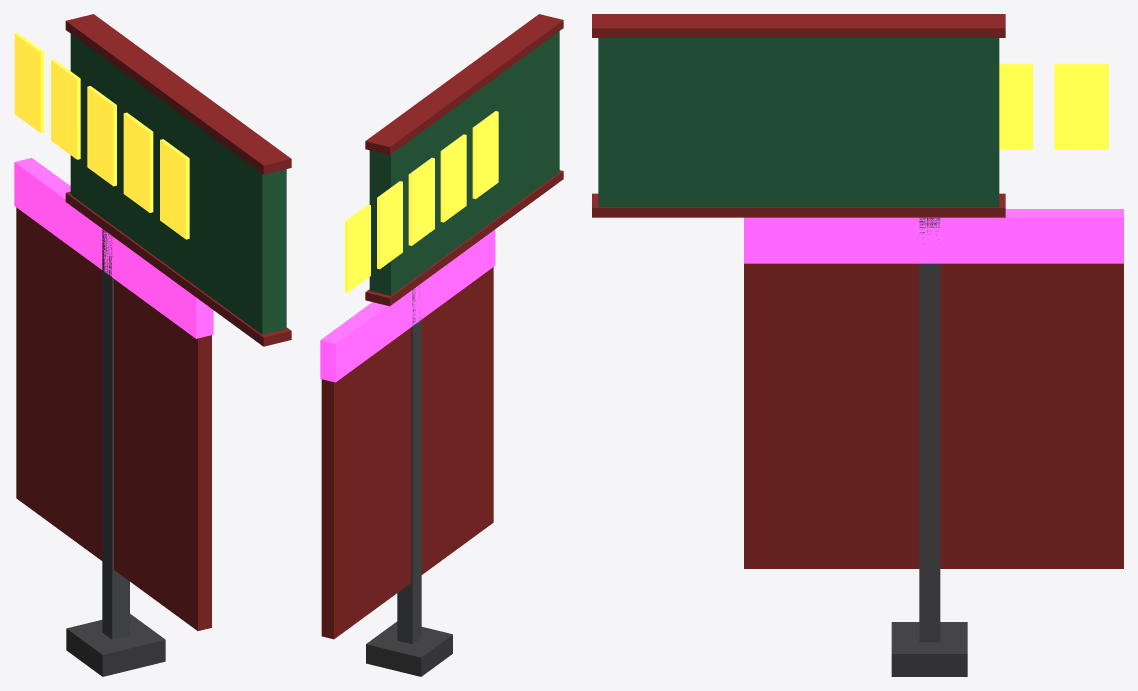
File: PRP_Signage_ML_v001.glb
The picture shows the model from 3 angles, left to right: view 1: azimuth 30°, elevation 25°; view 2: azimuth 150°, elevation 25°; view 3: azimuth 270°, elevation 25°; orthographic projection. The views are drawn at different scales.
Visible parts, largest first — view 1: PRP_Signage_ML_v001; view 2: PRP_Signage_ML_v001; view 3: PRP_Signage_ML_v001.
Boxes of the visible parts, <box> form: PRP_Signage_ML_v001: <box>14,14,291,676</box>; PRP_Signage_ML_v001: <box>320,14,563,676</box>; PRP_Signage_ML_v001: <box>592,14,1123,676</box>.
Size of the model in its own units: 0.36 by 3.34 by 2.52.
